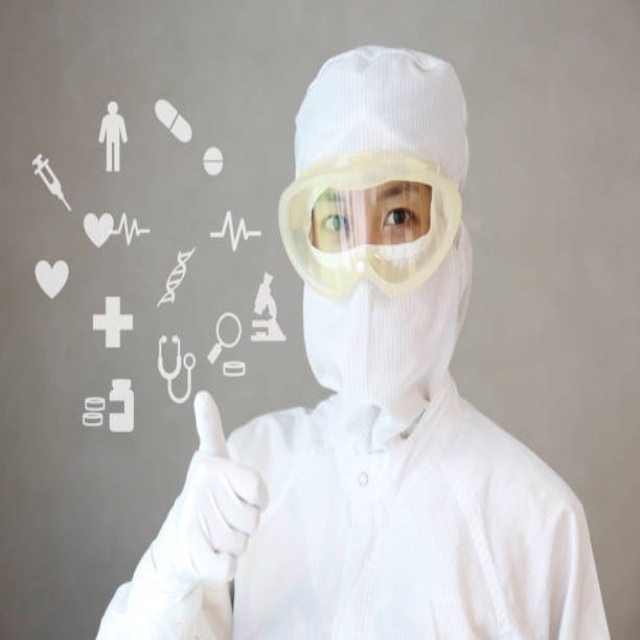Gafas: (277, 152, 463, 301)
Guantes: (147, 392, 264, 595)
Mascara: (301, 226, 469, 413)
